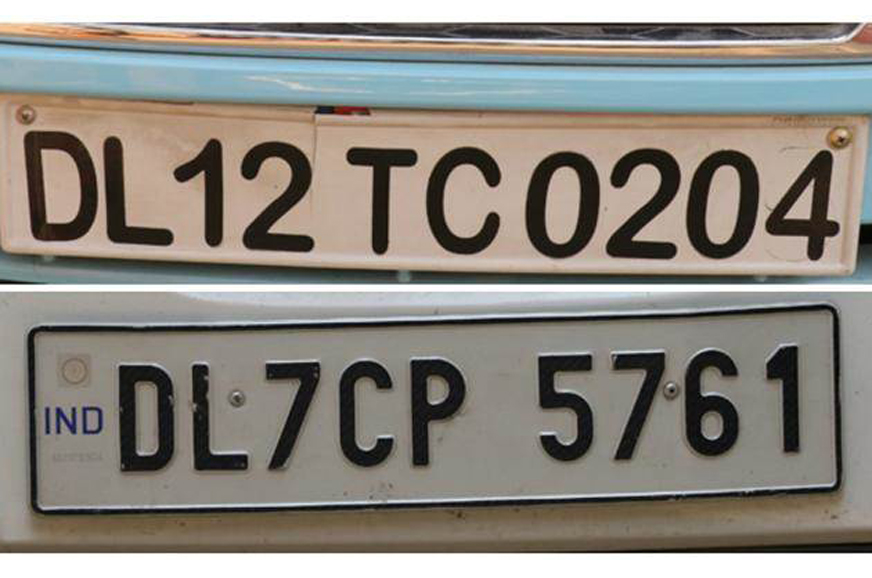numberplate: (28, 301, 842, 514), (2, 92, 857, 279)
